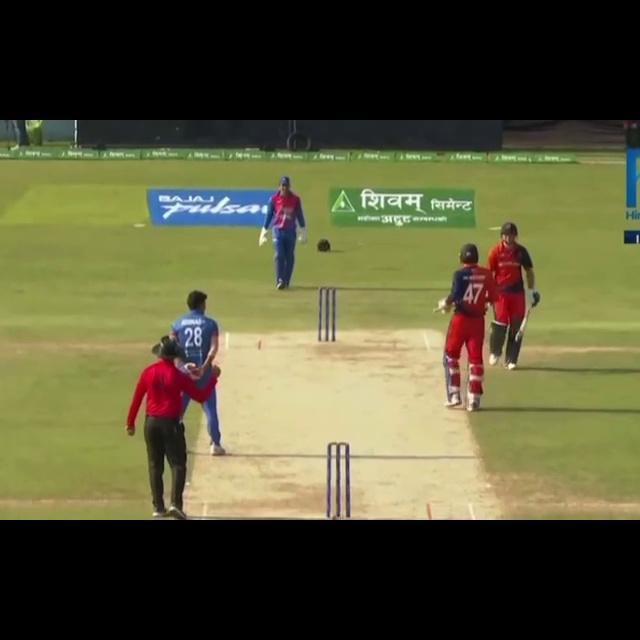umpire: (119, 333, 227, 508)
